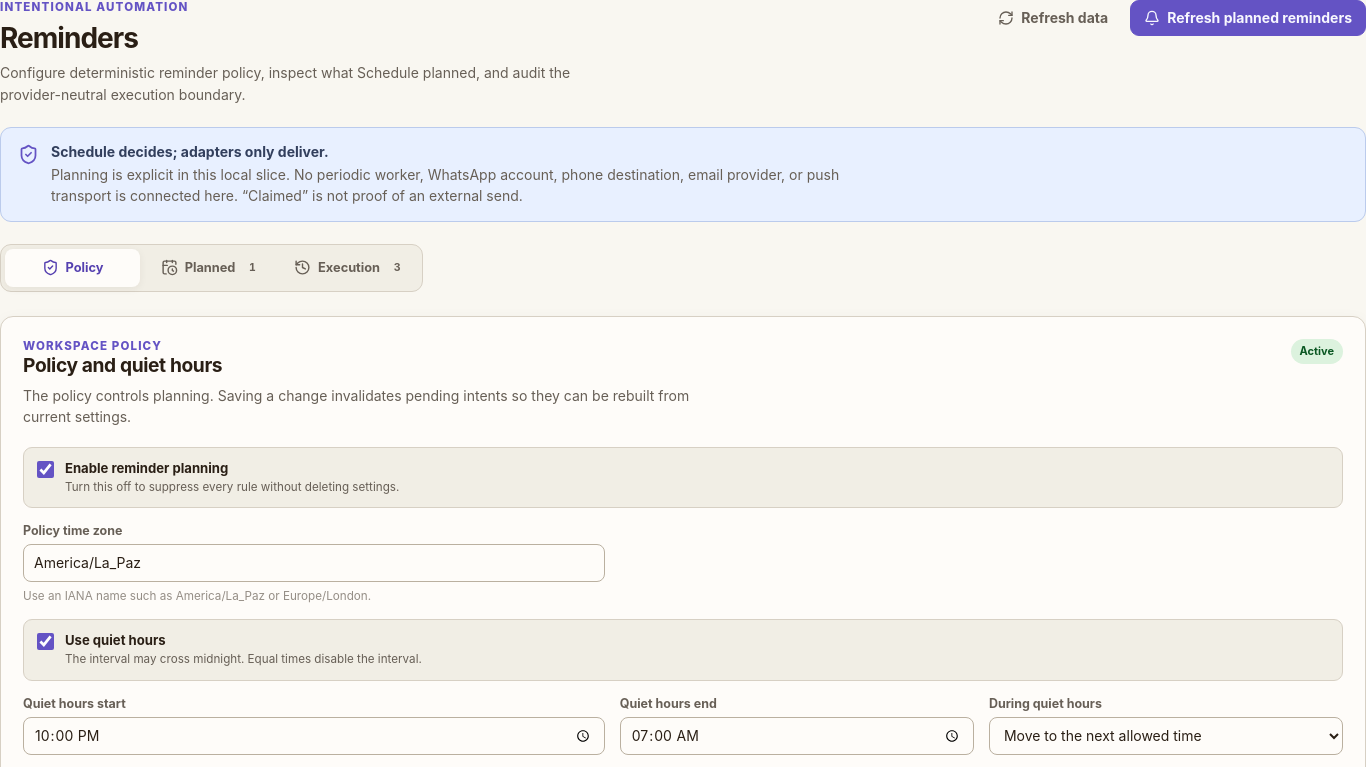
Scenario: RemindersView › only offers delivery retry for dead-letter commands
The image size is (1366, 767).
Expected: the heading "Policy and quiet hours" is shown, left=23, top=353, right=222, bottom=377
Click the tab "Execution 3" at (351, 268), box left=283, top=249, right=418, bottom=287
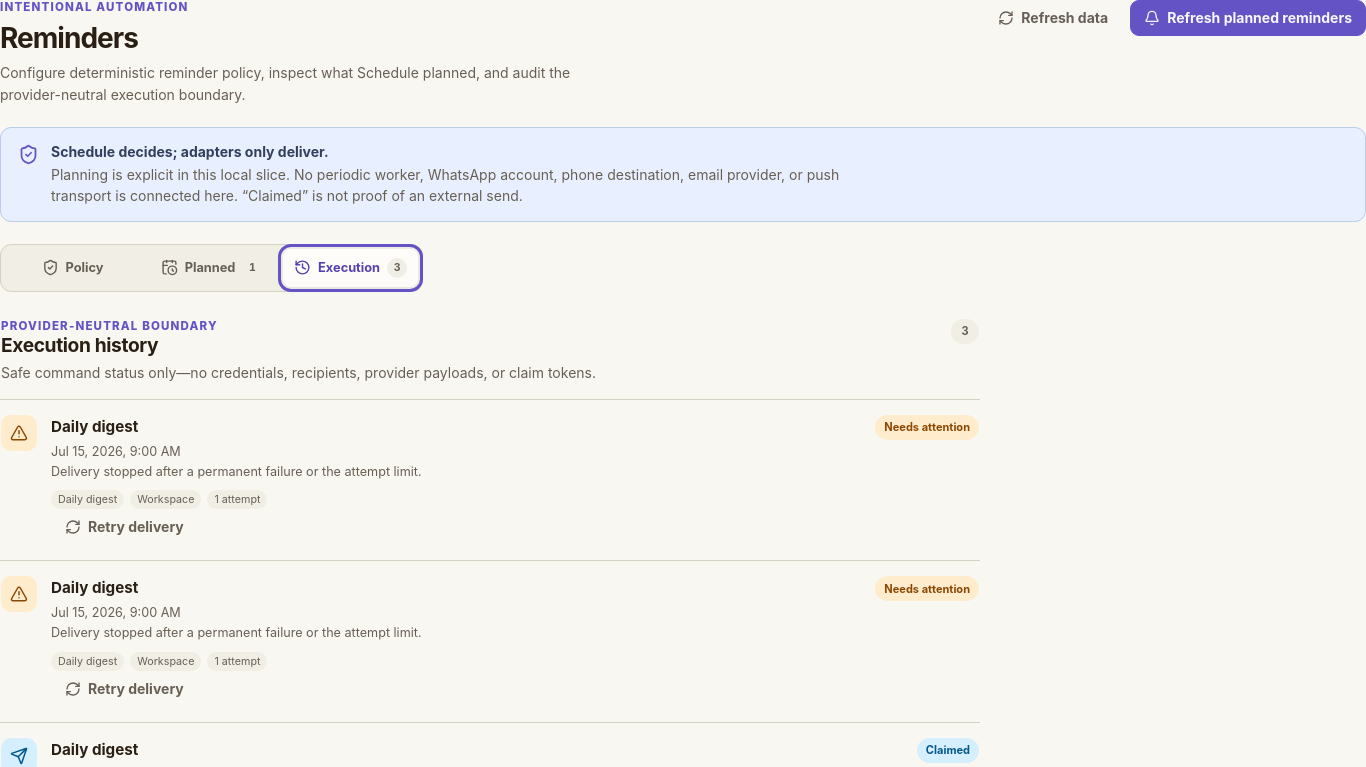
Now the button with aria-label "Retry delivery for Daily digest (delivery-dead-letter-1)" is enabled, box left=51, top=509, right=198, bottom=545
Now the button with aria-label "Retry delivery for Daily digest (delivery-dead-letter-2)" is enabled, box left=51, top=670, right=198, bottom=706
Now the number of buttons named "Retry delivery for Daily digest" is 2, box left=51, top=509, right=198, bottom=545; left=51, top=670, right=198, bottom=706
